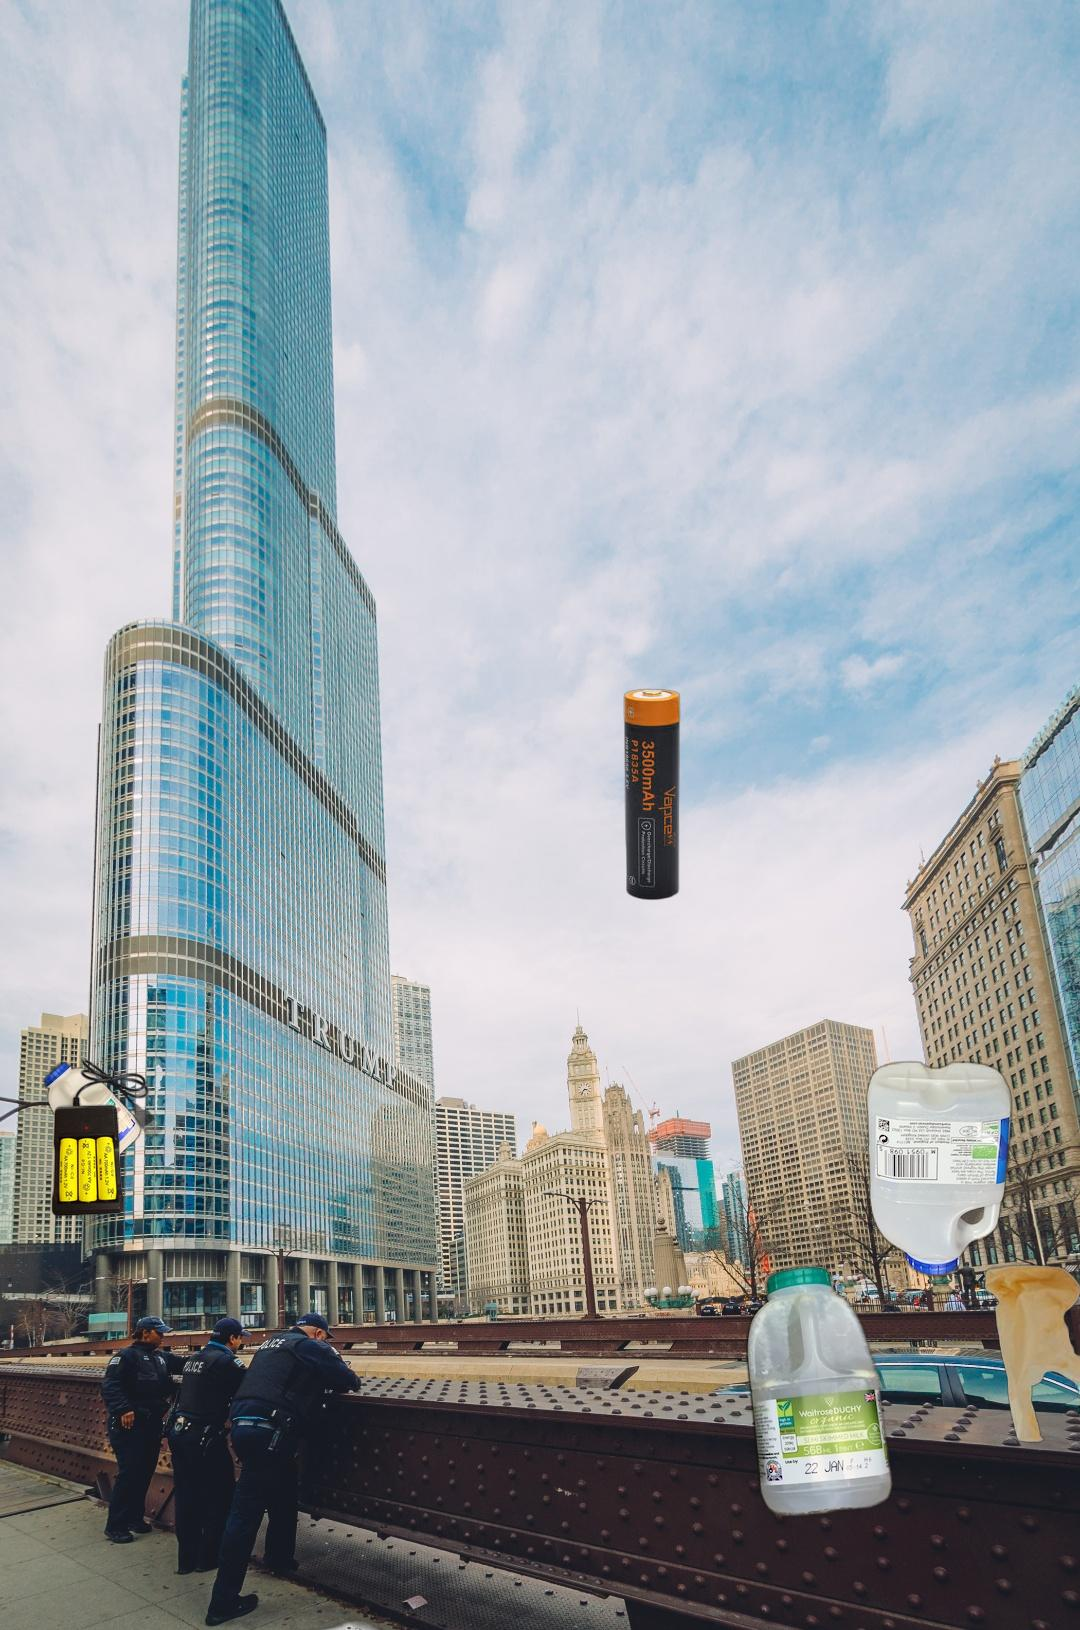battery: (49, 1057, 165, 1219), (621, 685, 683, 902), (222, 1564, 423, 1630)
biological: (365, 1629, 1005, 1630)
plastic-bag: (982, 1263, 1080, 1446)
plastic-bottles: (742, 1260, 897, 1523), (862, 1055, 1016, 1282), (40, 1059, 145, 1169)
